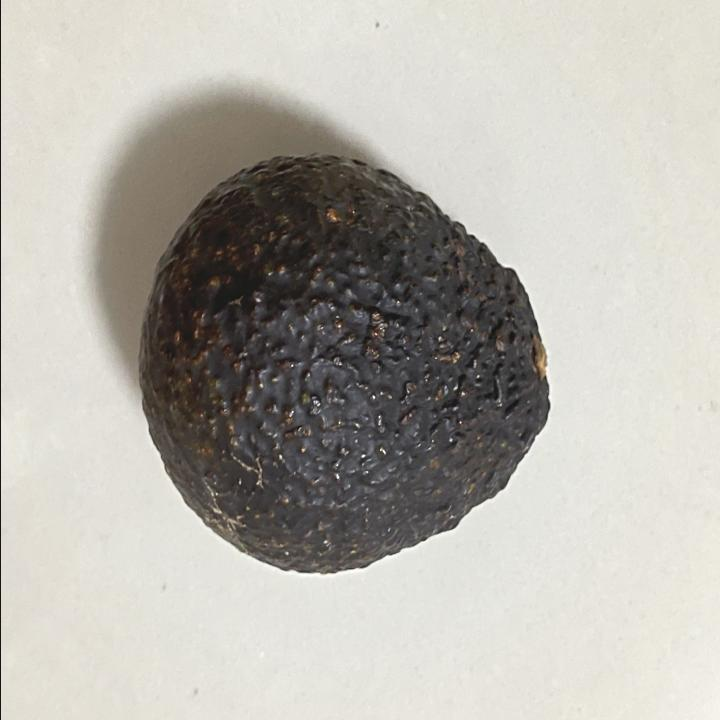Level2: (132, 146, 560, 582)
